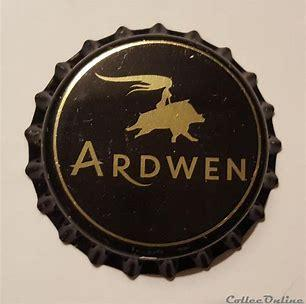metal: (25, 24, 282, 280)
